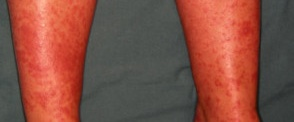SJS-TEN: (10, 2, 100, 122), (197, 17, 260, 121)
